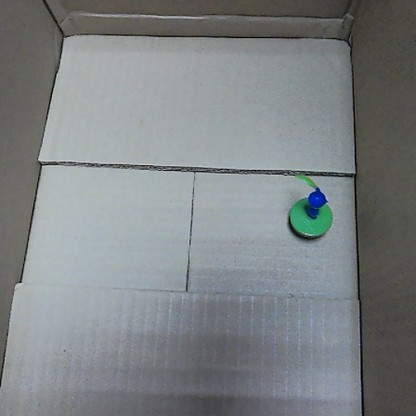leafairy: (287, 168, 333, 242)
